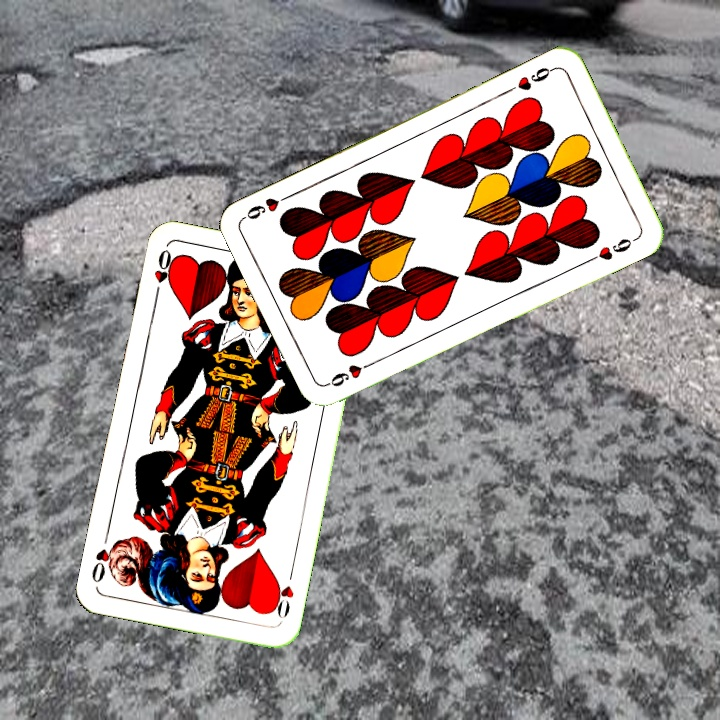H9: (322, 357, 378, 390), (503, 63, 558, 95)
HO: (267, 565, 297, 624), (150, 245, 176, 303)
